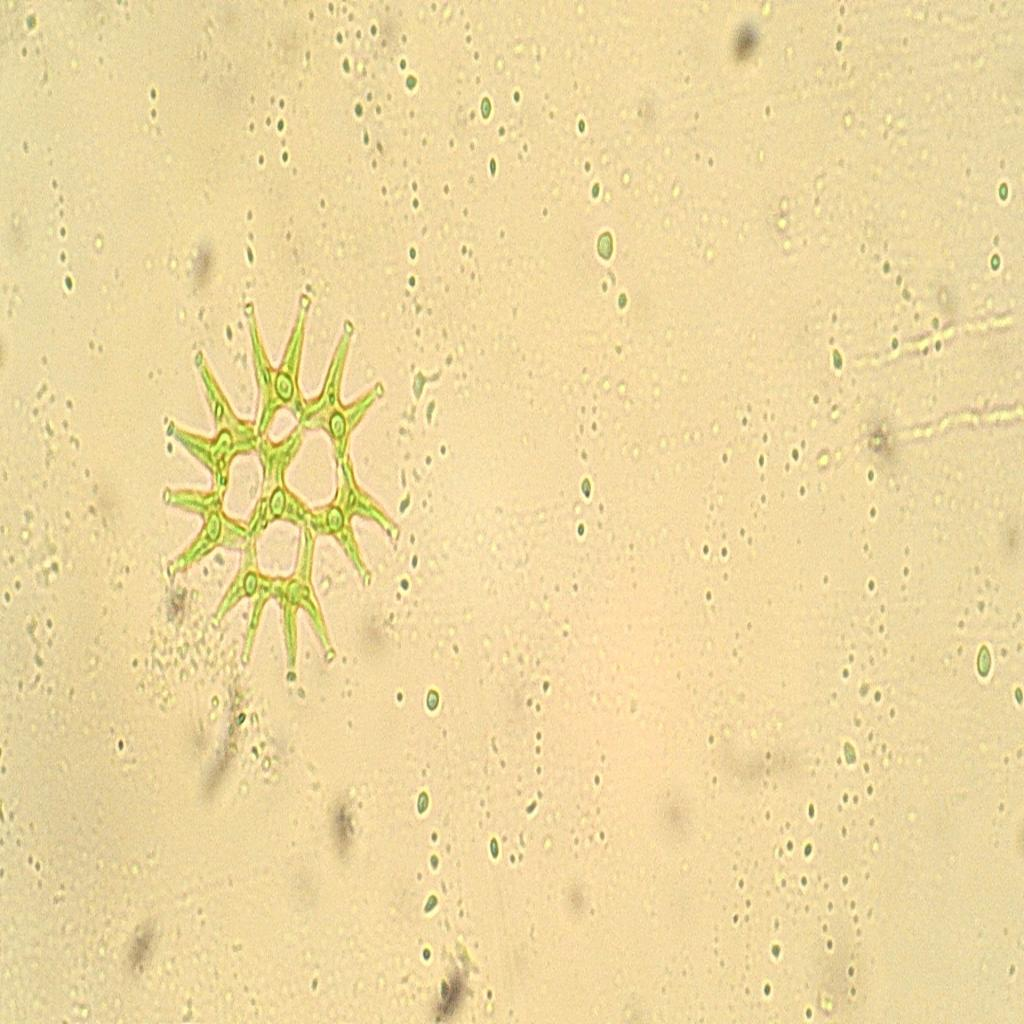Pediastrum_CTH: (150, 272, 414, 699)
